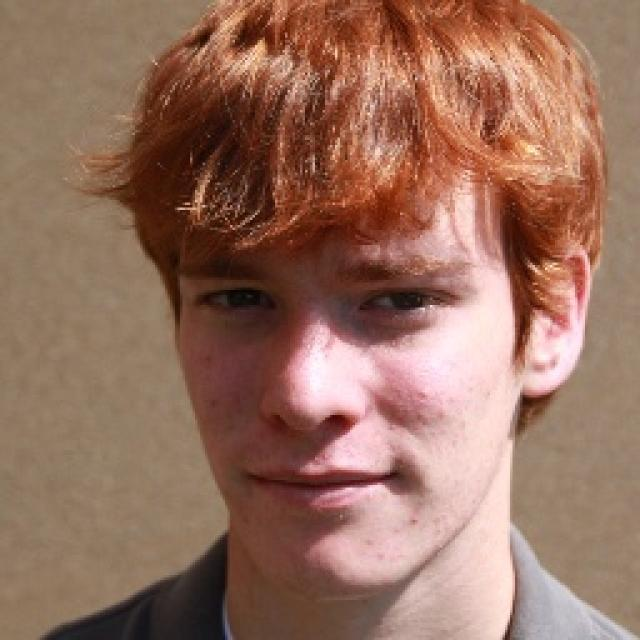earlobe: (519, 342, 568, 400)
eye: (362, 286, 458, 316), (197, 283, 278, 318)
nose: (266, 422, 360, 459)
wholeear: (519, 236, 592, 399)
